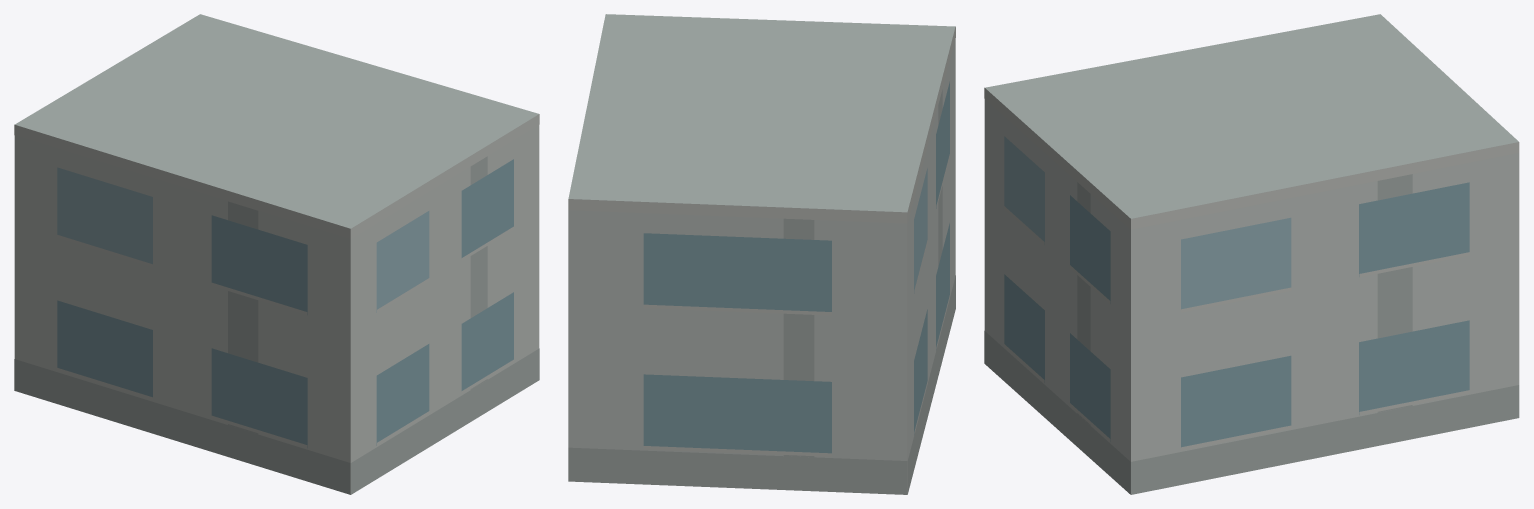
The model's file is survey-upis-32996161.glb.
The picture shows the model from 3 angles, left to right: view 1: azimuth 30°, elevation 25°; view 2: azimuth 150°, elevation 25°; view 3: azimuth 270°, elevation 25°; orthographic projection. The views are drawn at different scales.
Visible parts, largest first — view 1: survey-upis-32996161.tmp; view 2: survey-upis-32996161.tmp; view 3: survey-upis-32996161.tmp.
Part boxes in pixels (x1,y1,x2,y2): survey-upis-32996161.tmp: (14,14,539,494); survey-upis-32996161.tmp: (568,14,955,494); survey-upis-32996161.tmp: (984,14,1519,494).
Size of the model in its own units: 9.72 by 6.1 by 10.72.
